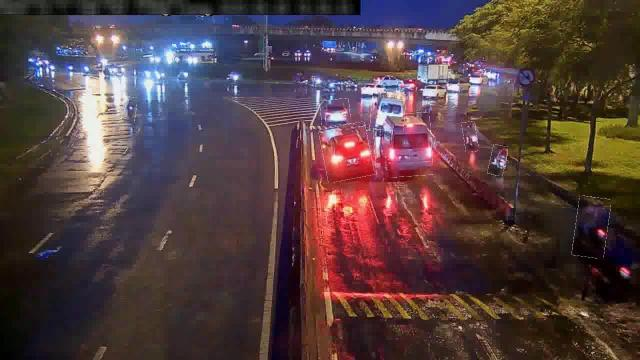Bike: (574, 197, 610, 259), (489, 144, 507, 176), (462, 121, 478, 152), (122, 97, 138, 123)
Bus: (373, 113, 432, 177), (370, 93, 406, 131)
Car: (321, 123, 372, 181), (321, 99, 351, 125)
